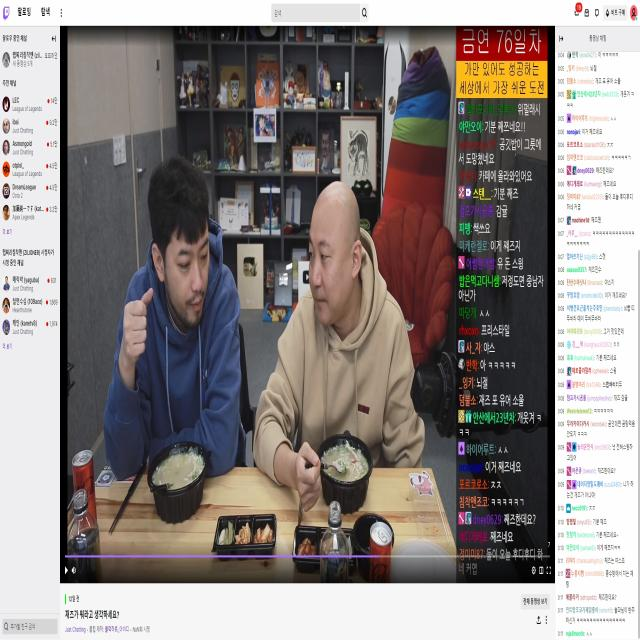control-bar: (62, 543, 552, 580)
menu-bar: (572, 1, 638, 22)
search: (270, 3, 368, 22), (1, 618, 58, 635)
